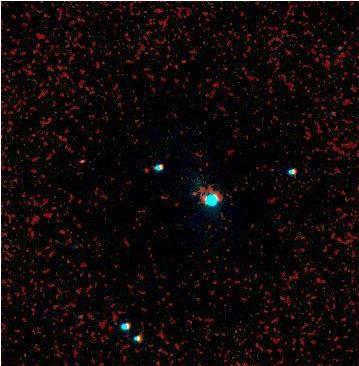star: (64, 146, 94, 176)
